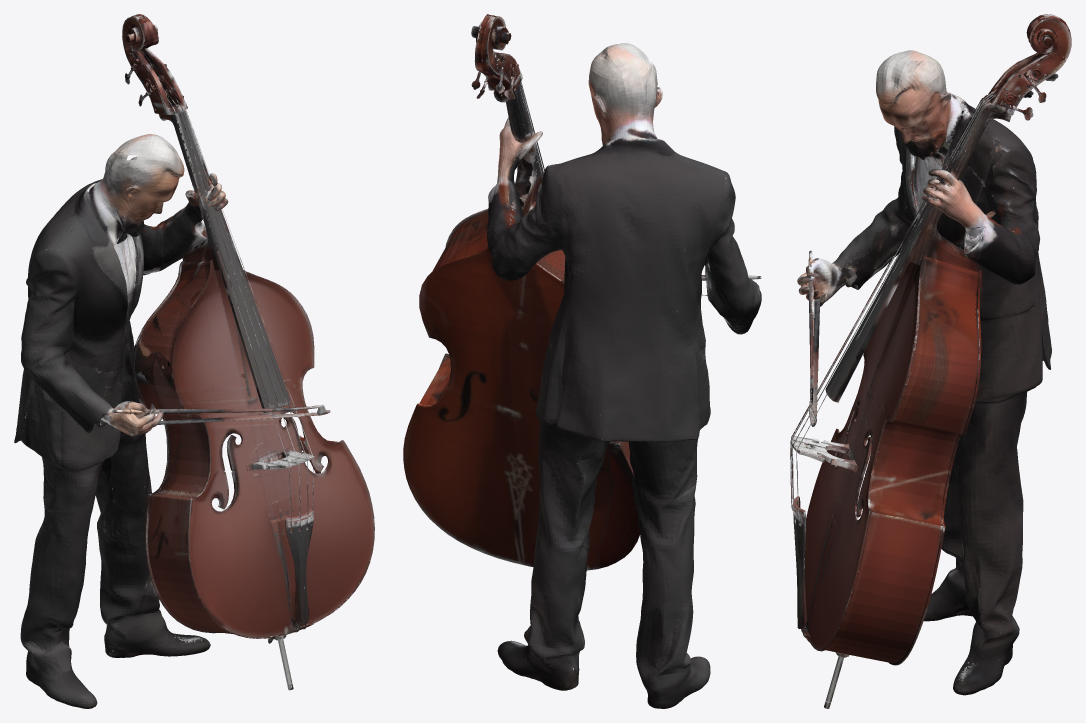
Rendered from textured_error.glb.
3 renders of one model, left to right at view 1: azimuth 30°, elevation 25°; view 2: azimuth 150°, elevation 25°; view 3: azimuth 270°, elevation 25°, orthographic. The views are drawn at different scales.
Parts seen in each view (by area): view 1: Node; view 2: Node; view 3: Node.
Boxes of the visible parts, <box> form: Node: <box>14,14,374,708</box>; Node: <box>403,14,761,708</box>; Node: <box>790,14,1071,708</box>.
Size of the model in its own units: 1.1 by 2 by 0.7665.
1 material, 1 textured.
